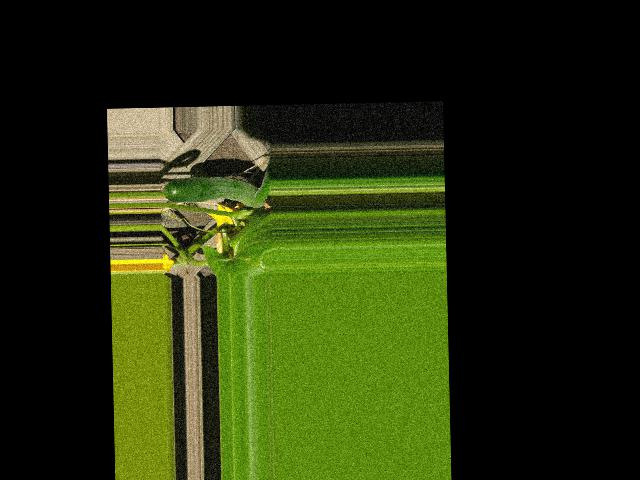cucumber: (165, 174, 271, 209)
